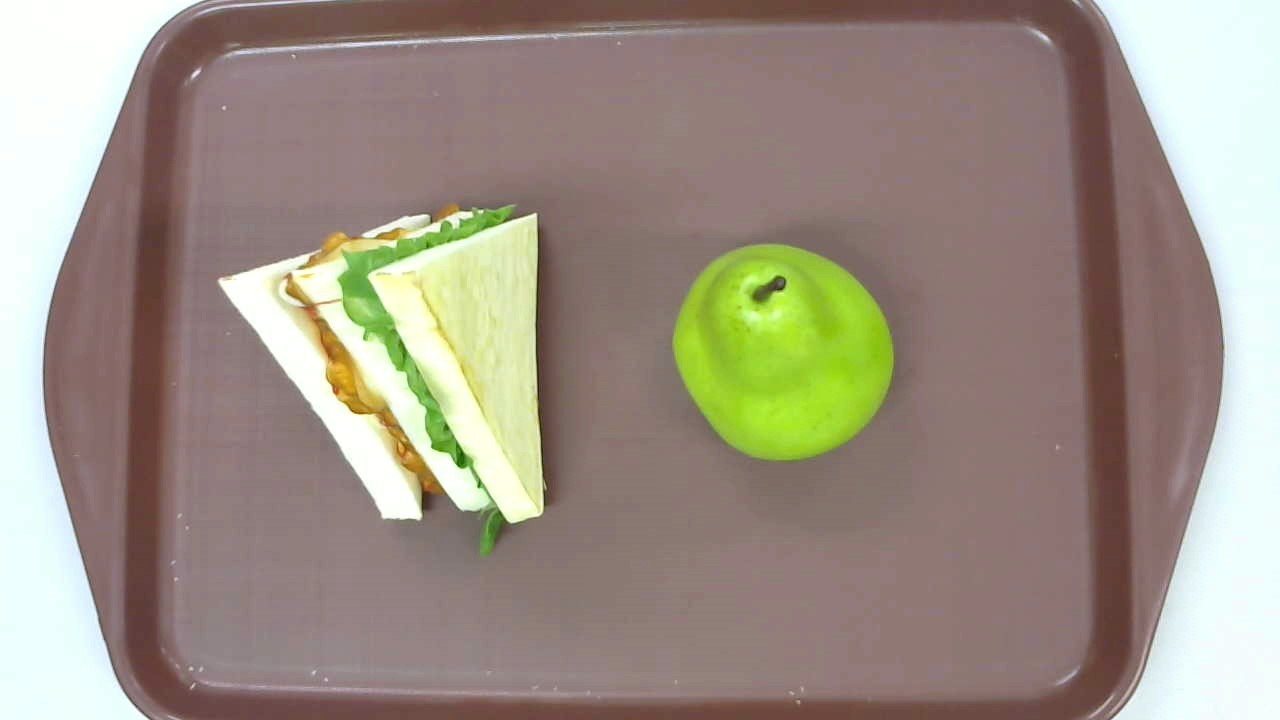green pear: (672, 242, 893, 464)
sandwich: (214, 204, 547, 558)
